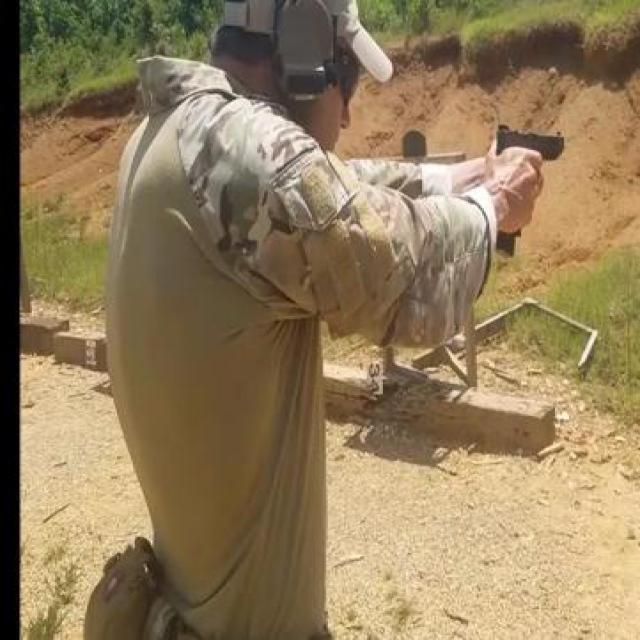weapon: (492, 124, 566, 258)
